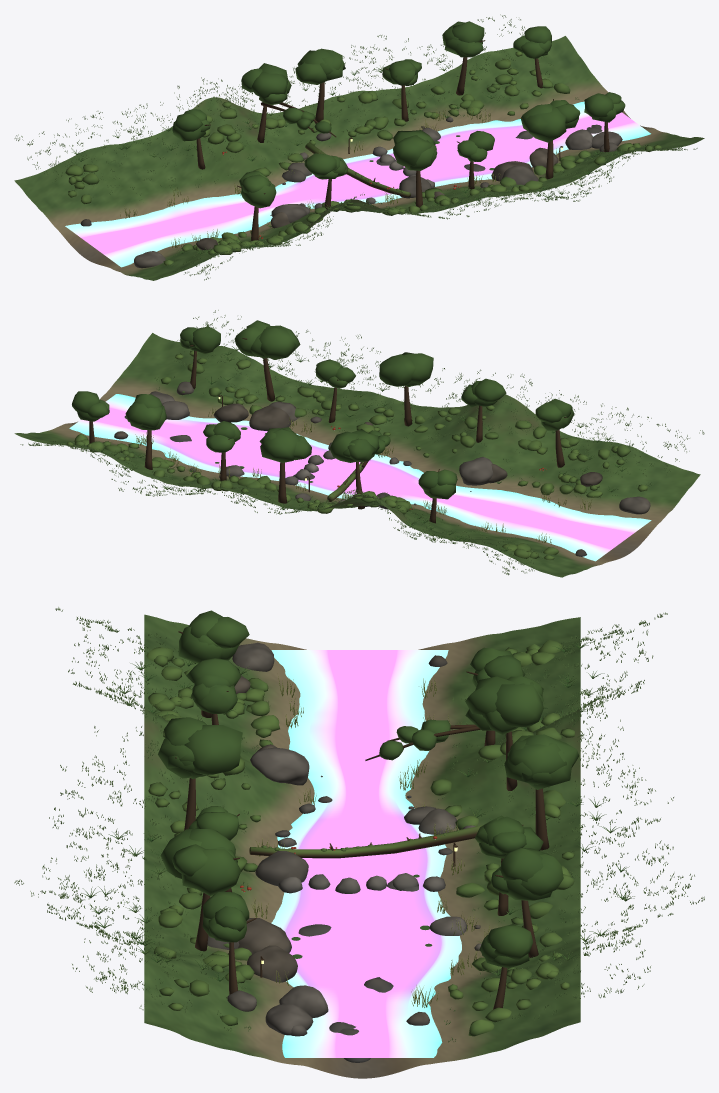
The model's file is creek.glb.
3 renders of one model, top to bottom at view 1: azimuth 30°, elevation 25°; view 2: azimuth 150°, elevation 25°; view 3: azimuth 270°, elevation 25°, orthographic. The views are drawn at different scales.
Parts seen in each view (by area): view 1: Terrain, Trees, Water, Bushes, Rocks, Grass, Ferns, Reeds, Log, Stones; view 2: Terrain, Water, Trees, Bushes, Rocks, Grass, Ferns, Reeds, Stones; view 3: Terrain, Water, Trees, Bushes, Rocks, Grass, Ferns, Log, Reeds, Stones.
Boxes of the visible parts, left/top/right/bottom form: Terrain: left=14, top=36, right=704, bottom=280; Trees: left=172, top=21, right=625, bottom=240; Water: left=65, top=101, right=650, bottom=267; Bushes: left=65, top=51, right=661, bottom=265; Rocks: left=80, top=117, right=622, bottom=268; Grass: left=14, top=14, right=697, bottom=280; Ferns: left=72, top=54, right=625, bottom=254; Reeds: left=120, top=107, right=559, bottom=248; Log: left=305, top=142, right=410, bottom=197; Stones: left=372, top=146, right=434, bottom=188; Terrain: left=14, top=333, right=700, bottom=577; Water: left=69, top=394, right=651, bottom=561; Trees: left=72, top=320, right=574, bottom=523; Bushes: left=66, top=350, right=647, bottom=559; Rocks: left=114, top=381, right=650, bottom=556; Grass: left=20, top=310, right=704, bottom=575; Ferns: left=96, top=346, right=626, bottom=551; Reeds: left=135, top=405, right=593, bottom=544; Stones: left=285, top=442, right=335, bottom=485; Terrain: left=144, top=614, right=580, bottom=1078; Water: left=271, top=650, right=461, bottom=1057; Trees: left=158, top=610, right=579, bottom=1009; Bushes: left=146, top=639, right=574, bottom=1036; Rocks: left=207, top=642, right=481, bottom=1062; Grass: left=14, top=607, right=704, bottom=1042; Ferns: left=82, top=640, right=634, bottom=981; Log: left=249, top=825, right=483, bottom=858; Reeds: left=251, top=675, right=489, bottom=1007; Stones: left=278, top=873, right=445, bottom=893.
Size of the model in its own units: 64 by 11.61 by 44.36.
